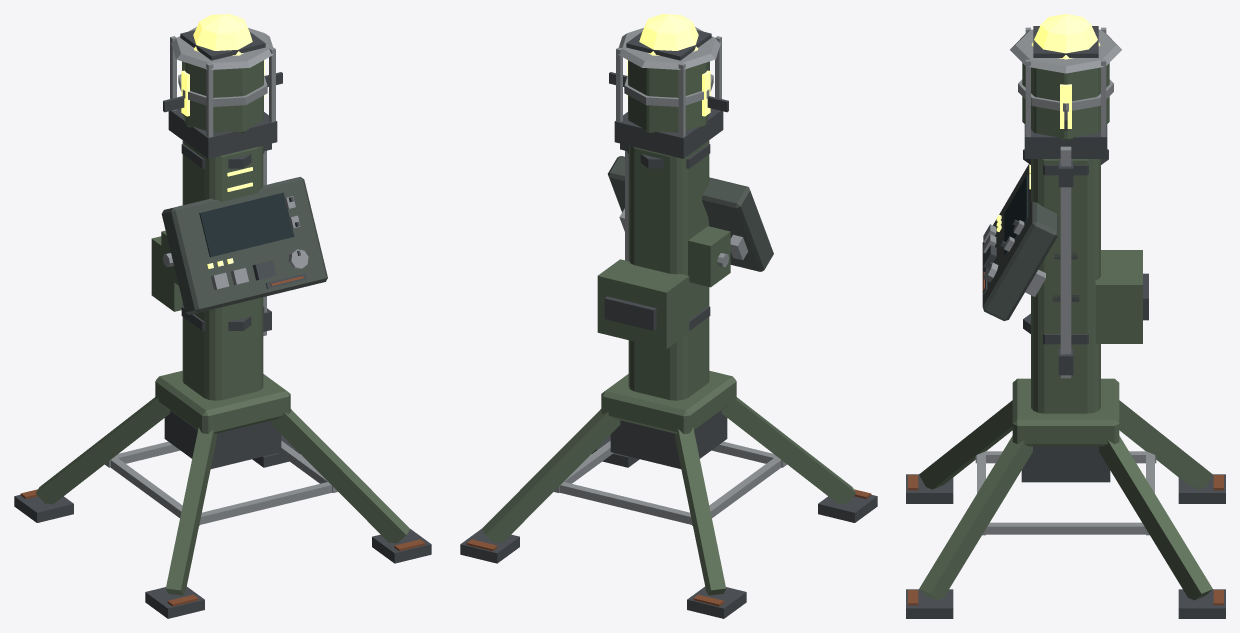
File: extraction_beacon_woodland.glb
The picture shows the model from 3 angles, left to right: view 1: azimuth 30°, elevation 25°; view 2: azimuth 150°, elevation 25°; view 3: azimuth 270°, elevation 25°; orthographic projection. The views are drawn at different scales.
Visible parts, largest first — view 1: Beacon_Legs, Beacon_Body, Beacon_Panel, Beacon_Light, Beacon_Light_Glow; view 2: Beacon_Body, Beacon_Legs, Beacon_Light, Beacon_Panel, Beacon_Light_Glow; view 3: Beacon_Legs, Beacon_Body, Beacon_Light, Beacon_Panel, Beacon_Light_Glow.
Part boxes in pixels (x1,y1,x2,y2): Beacon_Legs: (14, 370, 431, 618); Beacon_Body: (151, 140, 281, 468); Beacon_Panel: (161, 176, 327, 314); Beacon_Light: (163, 27, 282, 158); Beacon_Light_Glow: (181, 14, 264, 191); Beacon_Body: (597, 140, 730, 468); Beacon_Legs: (460, 370, 877, 618); Beacon_Light: (609, 27, 728, 158); Beacon_Panel: (608, 156, 773, 271); Beacon_Light_Glow: (627, 14, 710, 116); Beacon_Legs: (906, 378, 1225, 618); Beacon_Body: (1021, 146, 1148, 482); Beacon_Light: (1010, 26, 1121, 158); Beacon_Panel: (982, 164, 1058, 320); Beacon_Light_Glow: (1029, 14, 1100, 189).
Bounding box in the file's own units: 1.07 × 2 × 1.08.
